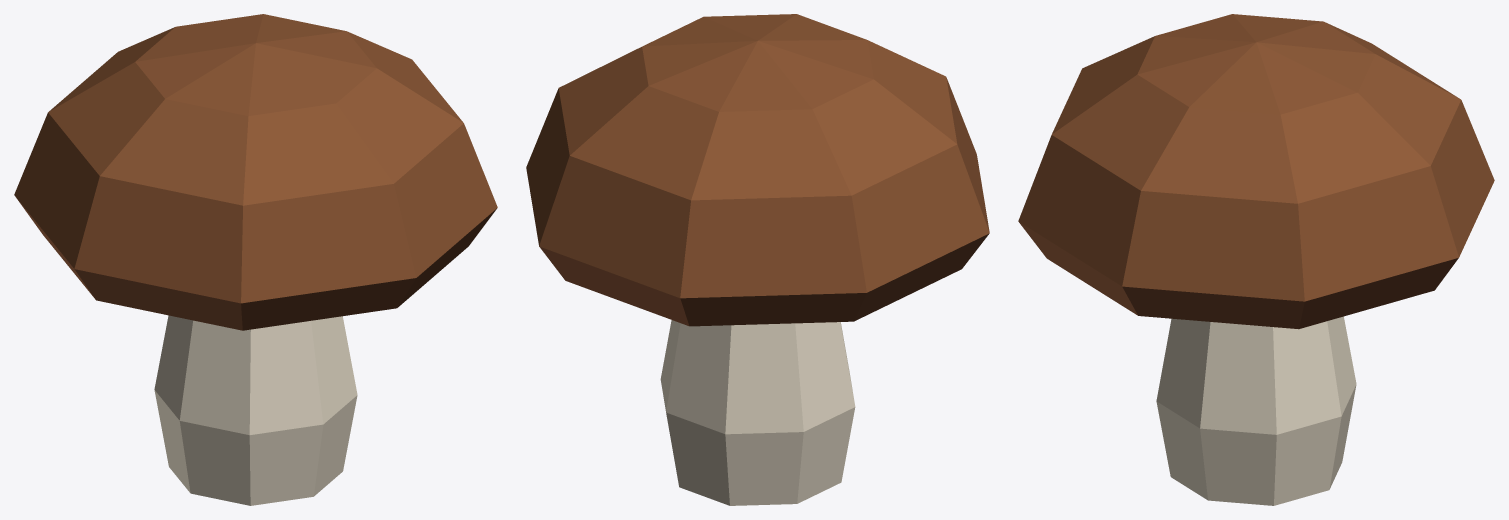
Rendered from mushroom_porcini.glb.
3 views of the same model, side by side, from view 1: azimuth 30°, elevation 25°; view 2: azimuth 150°, elevation 25°; view 3: azimuth 270°, elevation 25° (orthographic).
Parts seen in each view (by area): view 1: mushroom_porcini; view 2: mushroom_porcini; view 3: mushroom_porcini.
Part boxes in pixels (box(x1,y1,x2,y2)): mushroom_porcini: box(14, 14, 497, 505); mushroom_porcini: box(526, 14, 989, 505); mushroom_porcini: box(1018, 14, 1494, 505).
Size of the model in its own units: 0.196 by 0.194 by 0.196.
Materials: 1 (1 with a texture image).
